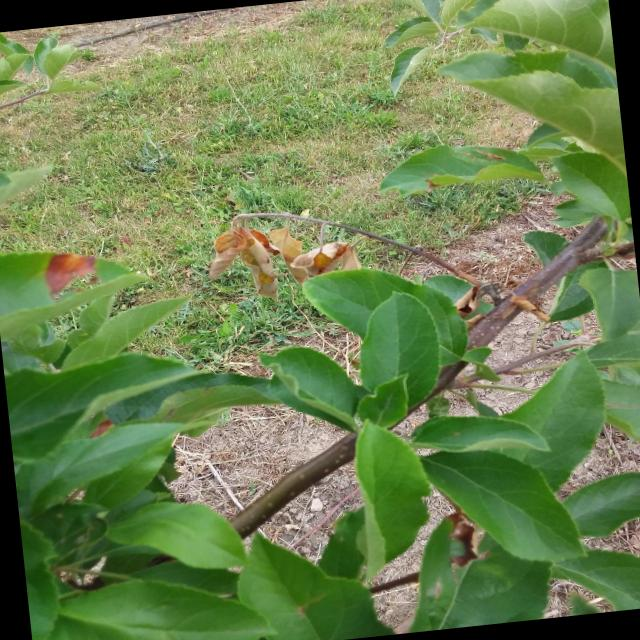-FireBlight-: (208, 188, 349, 299)
